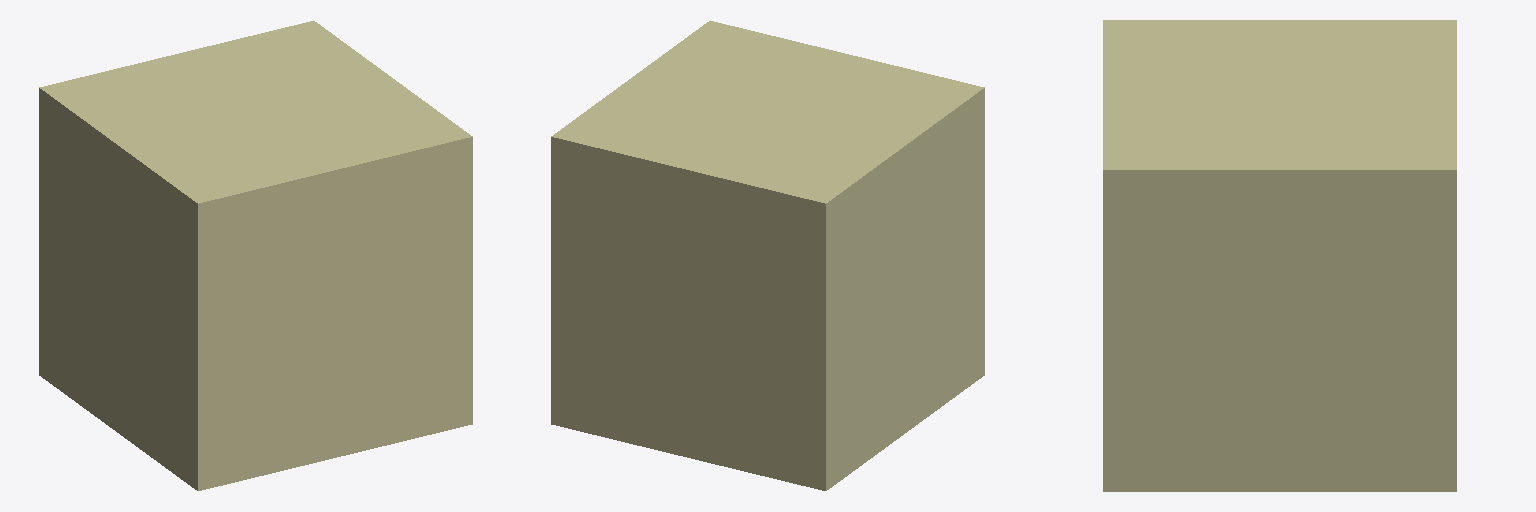
URDF robot description (random_box):
<?xml version='1.0' encoding='UTF-8'?>
<robot name="random_box">
  <link name="box">
    <visual>
      <geometry>
        <box size="0.05 0.05 0.05"/>
      </geometry>
      <material name="color">
        <color rgba="0.80231467369112 0.7883323980109974 0.6314046898251213 1"/>
      </material>
    </visual>
    <collision>
      <geometry>
        <box size="0.05 0.05 0.05"/>
      </geometry>
    </collision>
  </link>
</robot>

--- Render facts (derived) ---
Views: 3 orthographic renders of the robot side by side, from view 1: azimuth 30°, elevation 25°; view 2: azimuth 150°, elevation 25°; view 3: azimuth 270°, elevation 25°.
Model random_box with 1 links and 0 joints (none), rooted at box, posed every joint at zero.
Visible links, largest first — view 1: box; view 2: box; view 3: box.
Boxes of the visible links, x1,y1,x2,y2 form: box: (39, 21, 472, 490); box: (551, 21, 984, 490); box: (1103, 20, 1456, 491).
Size in the robot's own frame: 0.05 by 0.05 by 0.05 metres.
Geometry: primitives only (box / cylinder / sphere), no mesh files.